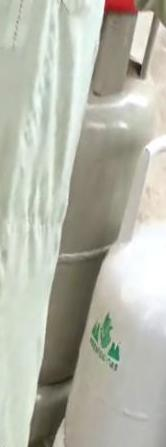cylinder: (1, 1, 166, 447)
